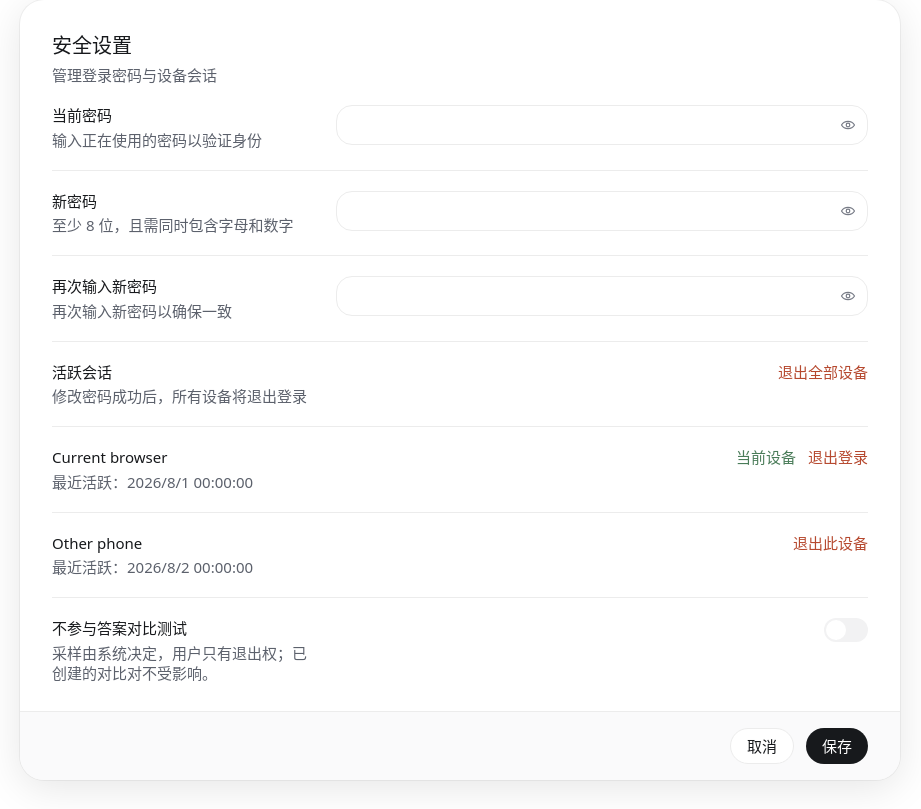
it: SecurityModule › revokes another device with the correct id and removes it from the list without a dialog
Check: the text "Other phone" is shown, box x1=52 y1=533 x2=142 y2=553
Check: the text "Current browser" is shown, box x1=52 y1=447 x2=167 y2=467
Click the button "退出此设备" at (830, 543), box x1=793 y1=533 x2=868 y2=553
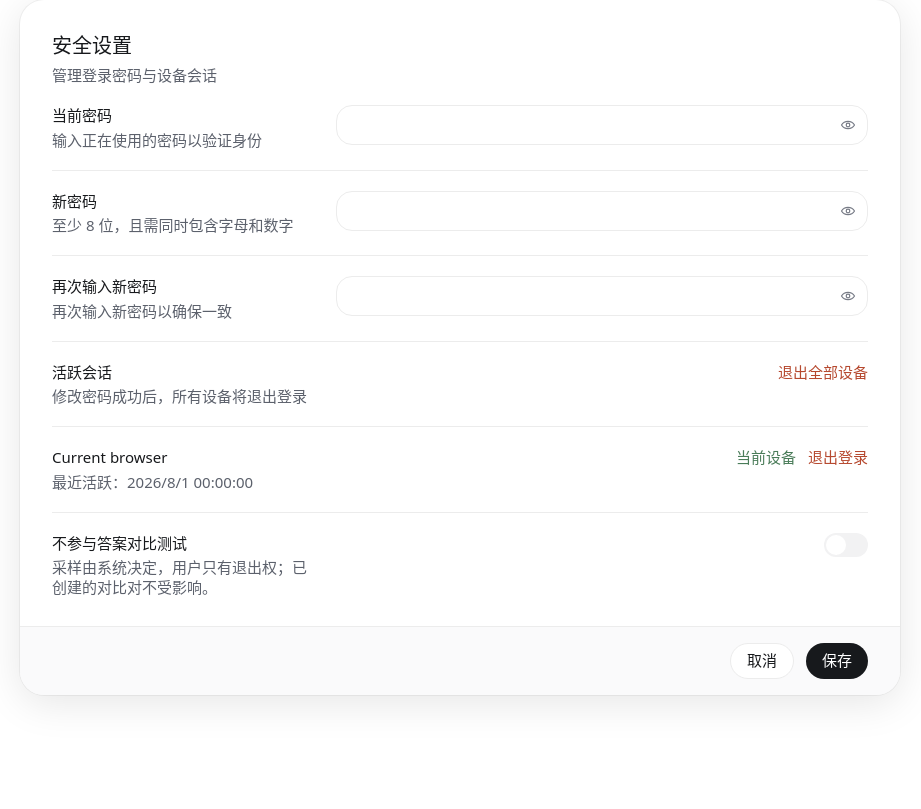
Check: the text "Current browser" is shown, box x1=52 y1=447 x2=167 y2=467
Check: the text "Other phone" is gone
